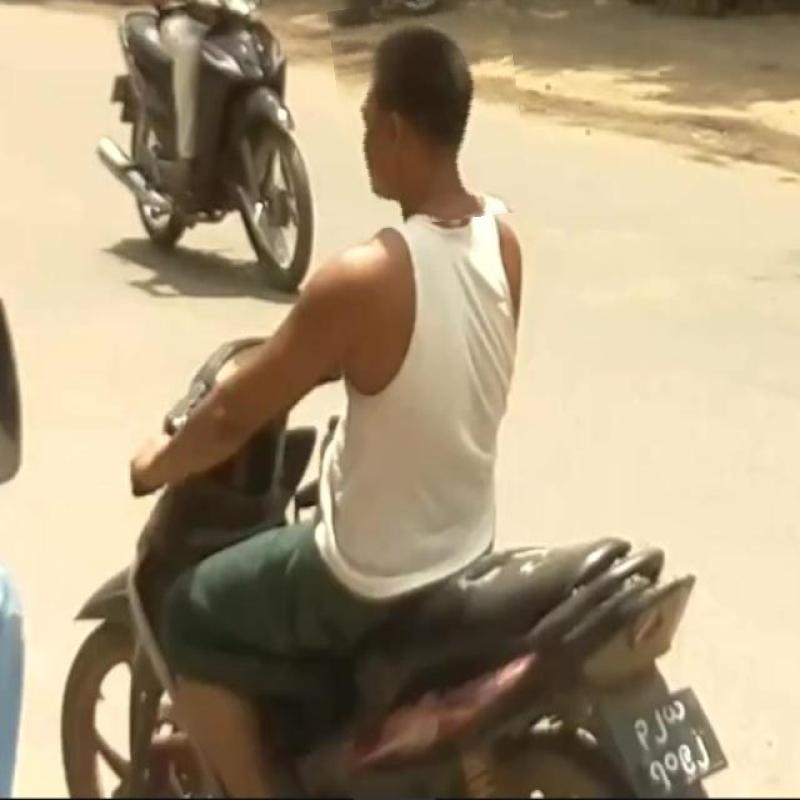nohelmet: (333, 0, 525, 227)
